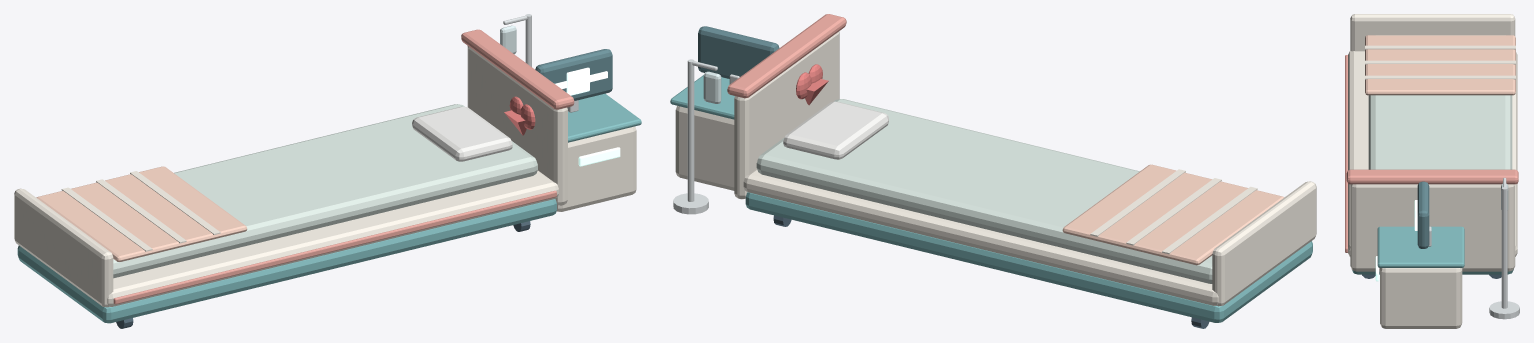
Rendered from recovery-area.glb.
3 renders of one model, left to right at view 1: azimuth 30°, elevation 25°; view 2: azimuth 150°, elevation 25°; view 3: azimuth 270°, elevation 25°, orthographic. The views are drawn at different scales.
Visible parts, largest first — view 1: BedSide, MintCushion, BedFrame, Blanket, BedStripe, Pillow, MonitorBody, HeartEmblem, ReadyMark, Chrome, StatusGlow; view 2: BedSide, MintCushion, BedFrame, Blanket, Pillow, BedStripe, MonitorBody, Chrome, HeartEmblem, DripBag; view 3: BedSide, MintCushion, Blanket, BedFrame, BedStripe, Chrome, MonitorBody.
Part boxes in pixels (box(x1,y1,x2,y2)): BedSide: box(14, 46, 636, 307); MintCushion: box(113, 104, 537, 278); BedFrame: box(17, 93, 641, 323); Blanket: box(36, 166, 247, 261); BedStripe: box(113, 29, 574, 304); Pillow: box(412, 106, 512, 161); MonitorBody: box(535, 49, 612, 100); HeartEmblem: box(504, 96, 535, 135); ReadyMark: box(566, 67, 589, 95); Chrome: box(503, 14, 578, 112); StatusGlow: box(578, 147, 620, 166); BedSide: box(675, 31, 1316, 306); MintCushion: box(756, 99, 1212, 283); BedFrame: box(670, 75, 1312, 322); Blanket: box(1062, 164, 1284, 265); Pillow: box(783, 101, 888, 159); BedStripe: box(727, 14, 846, 98); MonitorBody: box(698, 26, 779, 78); Chrome: box(673, 59, 739, 214); HeartEmblem: box(796, 64, 828, 105); DripBag: box(703, 71, 721, 103); BedSide: box(1348, 14, 1517, 328); MintCushion: box(1368, 35, 1512, 169); Blanket: box(1365, 35, 1515, 95); BedFrame: box(1352, 226, 1513, 274); BedStripe: box(1345, 55, 1518, 252); Chrome: box(1428, 177, 1519, 319); MonitorBody: box(1417, 181, 1429, 248).
Bounding box in the file's own units: 4.88 × 1.17 × 1.49.
